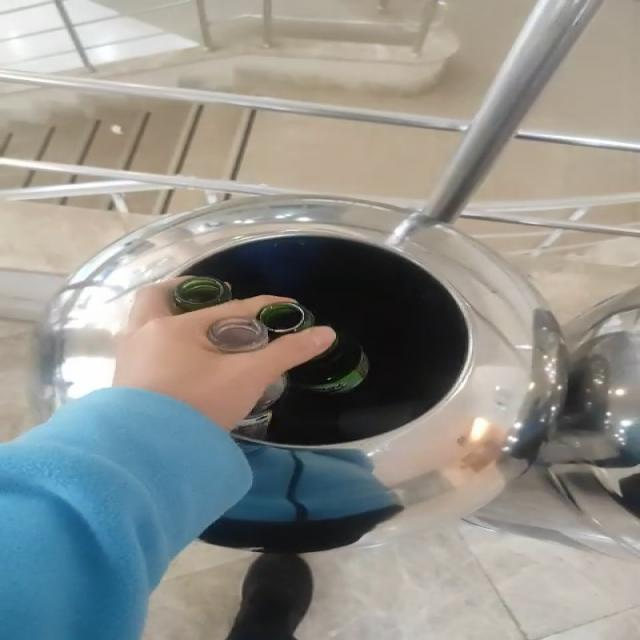glass: (234, 333, 368, 439), (207, 303, 315, 353), (176, 278, 231, 310)
